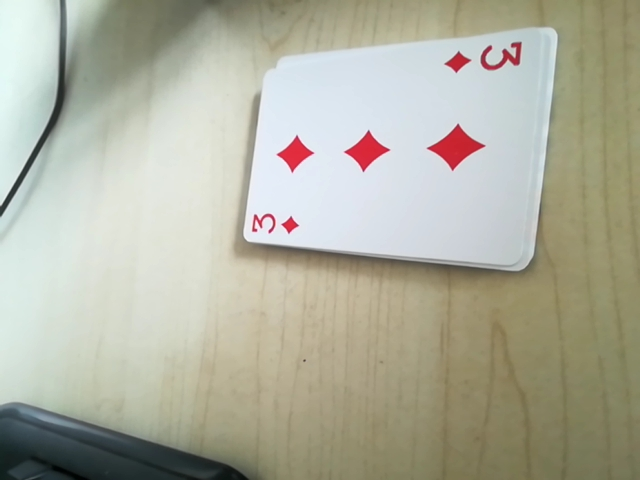fk 3: (442, 34, 528, 82), (245, 202, 305, 242)
